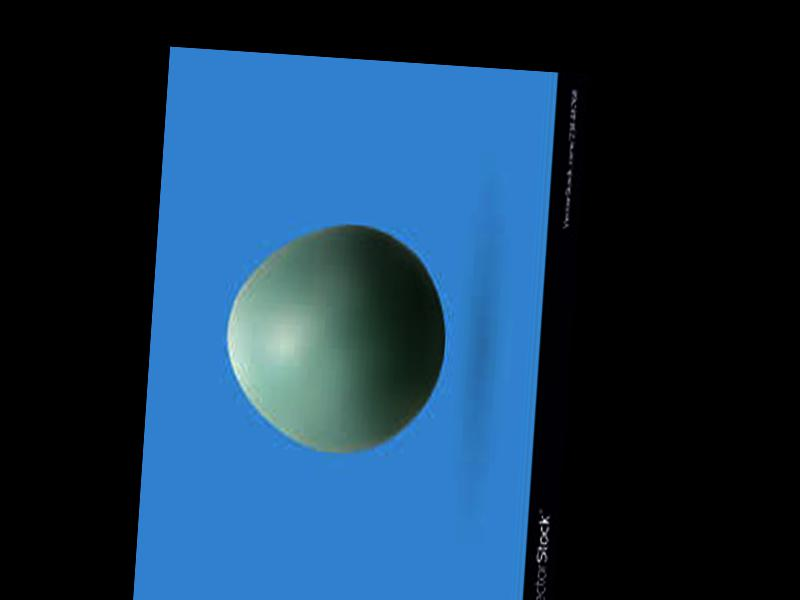Eggs: (219, 214, 450, 458)
